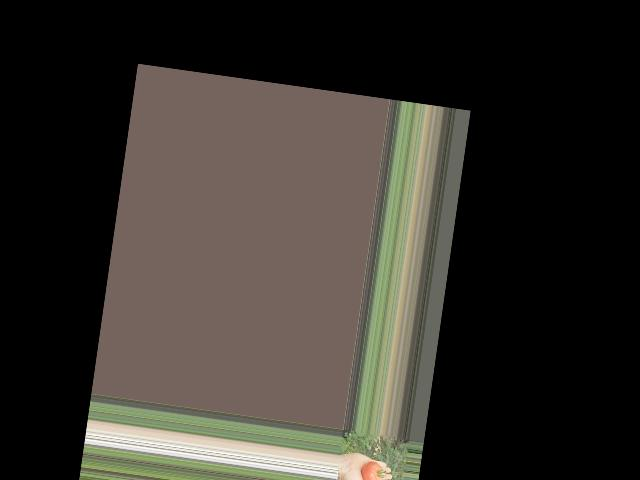tomato: (359, 459, 383, 480)
